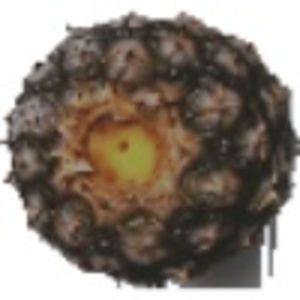abacaxi: (7, 10, 288, 284)
